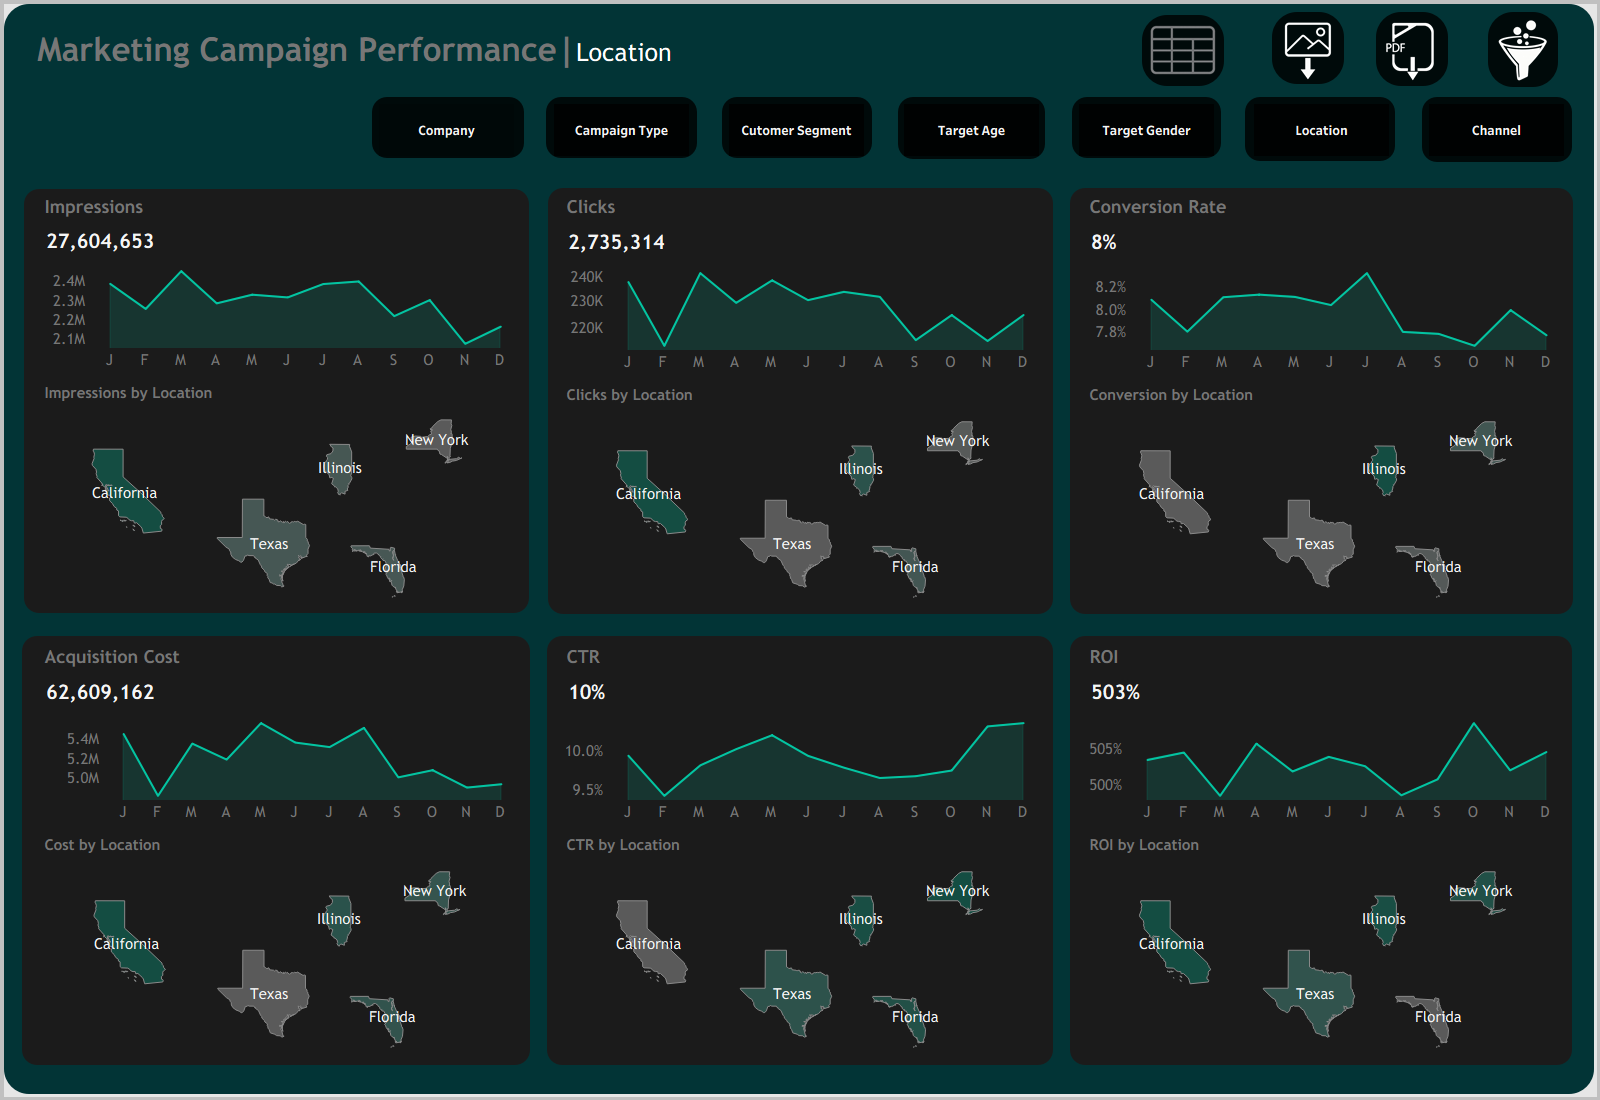

This screenshot's page, from the dashboard's own definition file:
{"tool":"tableau","page":{"name":"Location Page","canvas":[1600,1100],"ordinal":4},"visuals":[{"type":"worksheet","title":"Background Dashboard","mark":"Automatic","box":[0,0,1600,1100]},{"type":"blank","box":[0,0,1600,15]},{"type":"filter","title":"BAN Impressions","param":"[federated.1mnywug06xvtuc16vjv8v0i6xip0].[none:Channel_Used:nk]","box":[772,12,140.6,60]},{"type":"filter","title":"BAN Impressions","param":"[federated.1mnywug06xvtuc16vjv8v0i6xip0].[none:Company:nk]","box":[912.6,12,140.6,60]},{"type":"filter","title":"BAN Impressions","param":"[federated.1mnywug06xvtuc16vjv8v0i6xip0].[none:Calculation_1166370128986117:nk]","box":[1053.2,12,140.6,60]},{"type":"filter","title":"BAN Impressions","param":"[federated.1mnywug06xvtuc16vjv8v0i6xip0].[none:Target_Age:nk]","box":[1193.8,12,140.6,60]},{"type":"filter","title":"BAN Impressions","param":"[federated.1mnywug06xvtuc16vjv8v0i6xip0].[none:Target_Gender:nk]","box":[1334.4,12,140.6,60]},{"type":"text","box":[0,15,778,70]},{"type":"blank","box":[778,15,366,70]},{"type":"dashboard-object","box":[1144,15,77,70]},{"type":"blank","box":[1221,15,50,70]},{"type":"dashboard-object","box":[1271,15,73,70]},{"type":"blank","box":[1344,15,30,70]},{"type":"dashboard-object","box":[1374,15,70,70]},{"type":"blank","box":[1444,15,43,70]},{"type":"dashboard-object","box":[1487,15,70,70]},{"type":"blank","box":[1557,15,43,70]},{"type":"blank","box":[0,85,1600,15]},{"type":"blank","box":[0,90,4,207]},{"type":"dashboard-object","box":[4,90,39,35]},{"type":"text","box":[43,90,38,35]},{"type":"blank","box":[81,90,5,207]},{"type":"dashboard-object","box":[86,90,31,33]},{"type":"text","box":[117,90,161,33]},{"type":"blank","box":[278,90,5,207]},{"type":"dashboard-object","box":[283,90,30,33]},{"type":"text","box":[313,90,155,33]},{"type":"blank","box":[468,90,5,207]},{"type":"dashboard-object","box":[473,90,31,33]},{"type":"text","box":[504,90,119,33]},{"type":"blank","box":[623,90,5,207]},{"type":"dashboard-object","box":[628,90,31,33]},{"type":"text","box":[659.1,90,158,33]},{"type":"blank","box":[817.1,90,5,207]},{"type":"dashboard-object","box":[822.1,90,30,30]},{"type":"text","box":[852.1,90,144,30]},{"type":"blank","box":[996.1,90,5,207]},{"type":"dashboard-object","box":[1001.1,90,30,30]},{"type":"text","box":[1031.1,90,169,30]},{"type":"blank","box":[1200.1,90,5,207]},{"type":"dashboard-object","box":[1205.1,90,30,30]},{"type":"text","box":[1235.1,90,154,30]},{"type":"blank","box":[1389.1,90,5,207]},{"type":"dashboard-object","box":[1394.1,90,30,30]},{"type":"text","box":[1424.1,90,142,30]},{"type":"blank","box":[1566.1,90,30,207]},{"type":"blank","box":[0,100,343,60]},{"type":"blank","box":[343,100,32,60]},{"type":"dashboard-object","box":[375,100,143,60]},{"type":"blank","box":[518,100,32,60]},{"type":"dashboard-object","box":[550,100,143,60]},{"type":"blank","box":[693,100,32,60]},{"type":"dashboard-object","box":[725,100,143,60]},{"type":"blank","box":[868,100,32,60]},{"type":"dashboard-object","box":[900,100,143,60]},{"type":"blank","box":[1043,100,32,60]},{"type":"dashboard-object","box":[1075,100,143,60]},{"type":"blank","box":[1218,100,32,60]},{"type":"dashboard-object","box":[1250,100,143,60]},{"type":"blank","box":[1393,100,32,60]},{"type":"dashboard-object","box":[1425,100,143,60]},{"type":"blank","box":[1568,100,32,60]},{"type":"filter","title":"Detailed_Table","param":"[federated.1mnywug06xvtuc16vjv8v0i6xip0].[none:Channel_Used:nk]","box":[822.1,120,174,58]},{"type":"filter","title":"Detailed_Table","param":"[federated.1mnywug06xvtuc16vjv8v0i6xip0].[usr:Calculation_1851639007813637:qk]","box":[1001.1,120,199,51]},{"type":"filter","title":"Detailed_Table","param":"[federated.1mnywug06xvtuc16vjv8v0i6xip0].[usr:Calculation_1851639006334976:qk]","box":[1205.1,120,184,33]},{"type":"filter","title":"Detailed_Table","param":"[federated.1mnywug06xvtuc16vjv8v0i6xip0].[usr:Calculation_1851639007145986:qk]","box":[1394.1,120,172,51]},{"type":"filter","title":"Detailed_Table","param":"[federated.1mnywug06xvtuc16vjv8v0i6xip0].[none:Company:nk]","box":[86,123,192,58]},{"type":"filter","title":"Detailed_Table","param":"[federated.1mnywug06xvtuc16vjv8v0i6xip0].[none:Customer_Segment:nk]","box":[283,123,185,58]},{"type":"filter","title":"Detailed_Table","param":"[federated.1mnywug06xvtuc16vjv8v0i6xip0].[tdy:Date:qk]","box":[473,123,150,68]},{"type":"filter","title":"Detailed_Table","param":"[federated.1mnywug06xvtuc16vjv8v0i6xip0].[none:Calculation_1166370128986117:nk]","box":[628,123,189,58]},{"type":"filter","title":"Detailed_Table","param":"[federated.1mnywug06xvtuc16vjv8v0i6xip0].[none:Campaign_ID (Dim!Campaign):nk]","box":[4,125,77,35]},{"type":"blank","box":[0,160,32,932]},{"type":"blank","box":[32,160,490,32]},{"type":"blank","box":[522,160,32,932]},{"type":"blank","box":[554.1,160,490.9,32]},{"type":"blank","box":[1045,160,32,932]},{"type":"blank","box":[1077,160,490.9,32]},{"type":"blank","box":[1567.9,160,32,932]},{"type":"filter","title":"Detailed_Table","param":"[federated.1mnywug06xvtuc16vjv8v0i6xip0].[none:Campaign_Type:nk]","box":[86,181,192,58]},{"type":"filter","title":"Detailed_Table","param":"[federated.1mnywug06xvtuc16vjv8v0i6xip0].[none:Target_Age:nk]","box":[283,181,185,58]},{"type":"filter","title":"Detailed_Table","param":"[federated.1mnywug06xvtuc16vjv8v0i6xip0].[none:Location:nk]","box":[628,181,189,58]},{"type":"filter","title":"Detailed_Table","param":"[federated.1mnywug06xvtuc16vjv8v0i6xip0].[none:Weekday:nk]","box":[473,191,150,58]},{"type":"text","box":[32,192,490,29]},{"type":"text","box":[554.1,192,490.9,29]},{"type":"text","box":[1077,192,490.9,29]},{"type":"worksheet","title":"BAN Impressions","mark":"Automatic","box":[32,221,490,41]},{"type":"worksheet","title":"BAN Clicks","mark":"Automatic","box":[554.1,221,490.9,43]},{"type":"worksheet","title":"BAN Conversion","mark":"Automatic","box":[1077,221,490.9,43]},{"type":"filter","title":"Detailed_Table","param":"[federated.1mnywug06xvtuc16vjv8v0i6xip0].[none:Target_Gender:nk]","box":[283,239,185,58]},{"type":"worksheet","title":"Impressions by Year","mark":"Line","rows":["Calculation_1851639006334976","Calculation_1851639006334976"],"cols":["Date"],"box":[32,262,490,112]},{"type":"worksheet","title":"Clicks by Year","mark":"Line","rows":["Calculation_1851639006855169","Calculation_1851639006855169"],"cols":["Date"],"box":[554.1,264,490.9,112]},{"type":"worksheet","title":"Conversion by Year","mark":"Line","rows":["Calculation_1851639007629316","Calculation_1851639007629316"],"cols":["Date"],"box":[1077,264,490.9,112]},{"type":"worksheet","title":"Detailed_Table","mark":"Shape","rows":["Campaign_ID (Dim!Campaign)"],"cols":["Calculation_2238670781300739","Calculation_2238670781300739","Calculation_2238670781300739","Calculation_2238670781300739","Calculation_2238670781300739","Calculation_2238670781300739","Calculation_2238670781300739","Calculation_2238670781300739"],"box":[0,297,1600,803]},{"type":"worksheet","title":"Impressions by Location","mark":"Multipolygon","box":[32,374,490,236]},{"type":"worksheet","title":"Clicks by Location","mark":"Multipolygon","box":[554.1,376,490.9,234]},{"type":"worksheet","title":"Conversion by Location","mark":"Multipolygon","box":[1077,376,490.9,234]},{"type":"blank","box":[32,610,490,32]},{"type":"blank","box":[554.1,610,490.9,32]},{"type":"blank","box":[1077,610,490.9,32]},{"type":"text","box":[32,642,490,29]},{"type":"text","box":[554.1,642,490.9,29]},{"type":"text","box":[1077,642,490.9,29]},{"type":"worksheet","title":"BAN Cost","mark":"Automatic","box":[32,671,490,43]},{"type":"worksheet","title":"BAN CTR","mark":"Automatic","box":[554.1,671,490.9,43]},{"type":"worksheet","title":"BAN ROI","mark":"Automatic","box":[1077,671,490.9,43]},{"type":"worksheet","title":"Cost by Year","mark":"Line","rows":["Calculation_1851639007813637","Calculation_1851639007813637"],"cols":["Date"],"box":[32,714,490,112]},{"type":"worksheet","title":"CTR by Year","mark":"Line","rows":["Calculation_1851639007145986","Calculation_1851639007145986"],"cols":["Date"],"box":[554.1,714,490.9,112]},{"type":"worksheet","title":"ROI by Year","mark":"Line","rows":["Calculation_1851639007985670","Calculation_1851639007985670"],"cols":["Date"],"box":[1077,714,490.9,112]},{"type":"worksheet","title":"Cost by Location","mark":"Multipolygon","box":[32,826,490,234]},{"type":"worksheet","title":"CTR by Location","mark":"Multipolygon","box":[554.1,826,490.9,234]},{"type":"worksheet","title":"ROI by Location","mark":"Multipolygon","box":[1077,826,490.9,234]},{"type":"blank","box":[32,1060,490,32]},{"type":"blank","box":[554.1,1060,490.9,32]},{"type":"blank","box":[1077,1060,490.9,32]}]}

Visuals, with their boxes in screenshot pixels (x1, y1, x2, y2), scaled from the page's 1600x1100 canvas onto the 1600x1100 screenshot:
"Background Dashboard" worksheet: left=0, top=0, right=1599, bottom=1099
blank: left=0, top=0, right=1599, bottom=15
"BAN Impressions" filter: left=772, top=12, right=913, bottom=72
"BAN Impressions" filter: left=913, top=12, right=1053, bottom=72
"BAN Impressions" filter: left=1053, top=12, right=1194, bottom=72
"BAN Impressions" filter: left=1194, top=12, right=1334, bottom=72
"BAN Impressions" filter: left=1334, top=12, right=1475, bottom=72
text: left=0, top=15, right=778, bottom=85
blank: left=778, top=15, right=1144, bottom=85
dashboard-object: left=1144, top=15, right=1221, bottom=85
blank: left=1221, top=15, right=1271, bottom=85
dashboard-object: left=1271, top=15, right=1344, bottom=85
blank: left=1344, top=15, right=1374, bottom=85
dashboard-object: left=1374, top=15, right=1444, bottom=85
blank: left=1444, top=15, right=1487, bottom=85
dashboard-object: left=1487, top=15, right=1557, bottom=85
blank: left=1557, top=15, right=1599, bottom=85
blank: left=0, top=85, right=1599, bottom=100
blank: left=0, top=90, right=4, bottom=297
dashboard-object: left=4, top=90, right=43, bottom=125
text: left=43, top=90, right=81, bottom=125
blank: left=81, top=90, right=86, bottom=297
dashboard-object: left=86, top=90, right=117, bottom=123
text: left=117, top=90, right=278, bottom=123
blank: left=278, top=90, right=283, bottom=297
dashboard-object: left=283, top=90, right=313, bottom=123
text: left=313, top=90, right=468, bottom=123
blank: left=468, top=90, right=473, bottom=297
dashboard-object: left=473, top=90, right=504, bottom=123
text: left=504, top=90, right=623, bottom=123
blank: left=623, top=90, right=628, bottom=297
dashboard-object: left=628, top=90, right=659, bottom=123
text: left=659, top=90, right=817, bottom=123
blank: left=817, top=90, right=822, bottom=297
dashboard-object: left=822, top=90, right=852, bottom=120
text: left=852, top=90, right=996, bottom=120
blank: left=996, top=90, right=1001, bottom=297
dashboard-object: left=1001, top=90, right=1031, bottom=120
text: left=1031, top=90, right=1200, bottom=120
blank: left=1200, top=90, right=1205, bottom=297
dashboard-object: left=1205, top=90, right=1235, bottom=120
text: left=1235, top=90, right=1389, bottom=120
blank: left=1389, top=90, right=1394, bottom=297
dashboard-object: left=1394, top=90, right=1424, bottom=120
text: left=1424, top=90, right=1566, bottom=120
blank: left=1566, top=90, right=1596, bottom=297
blank: left=0, top=100, right=343, bottom=160
blank: left=343, top=100, right=375, bottom=160
dashboard-object: left=375, top=100, right=518, bottom=160
blank: left=518, top=100, right=550, bottom=160
dashboard-object: left=550, top=100, right=693, bottom=160
blank: left=693, top=100, right=725, bottom=160
dashboard-object: left=725, top=100, right=868, bottom=160
blank: left=868, top=100, right=900, bottom=160
dashboard-object: left=900, top=100, right=1043, bottom=160
blank: left=1043, top=100, right=1075, bottom=160
dashboard-object: left=1075, top=100, right=1218, bottom=160
blank: left=1218, top=100, right=1250, bottom=160
dashboard-object: left=1250, top=100, right=1393, bottom=160
blank: left=1393, top=100, right=1425, bottom=160
dashboard-object: left=1425, top=100, right=1568, bottom=160
blank: left=1568, top=100, right=1599, bottom=160
"Detailed_Table" filter: left=822, top=120, right=996, bottom=178
"Detailed_Table" filter: left=1001, top=120, right=1200, bottom=171
"Detailed_Table" filter: left=1205, top=120, right=1389, bottom=153
"Detailed_Table" filter: left=1394, top=120, right=1566, bottom=171
"Detailed_Table" filter: left=86, top=123, right=278, bottom=181
"Detailed_Table" filter: left=283, top=123, right=468, bottom=181
"Detailed_Table" filter: left=473, top=123, right=623, bottom=191
"Detailed_Table" filter: left=628, top=123, right=817, bottom=181
"Detailed_Table" filter: left=4, top=125, right=81, bottom=160
blank: left=0, top=160, right=32, bottom=1092
blank: left=32, top=160, right=522, bottom=192
blank: left=522, top=160, right=554, bottom=1092
blank: left=554, top=160, right=1045, bottom=192
blank: left=1045, top=160, right=1077, bottom=1092
blank: left=1077, top=160, right=1568, bottom=192
blank: left=1568, top=160, right=1599, bottom=1092
"Detailed_Table" filter: left=86, top=181, right=278, bottom=239
"Detailed_Table" filter: left=283, top=181, right=468, bottom=239
"Detailed_Table" filter: left=628, top=181, right=817, bottom=239
"Detailed_Table" filter: left=473, top=191, right=623, bottom=249
text: left=32, top=192, right=522, bottom=221
text: left=554, top=192, right=1045, bottom=221
text: left=1077, top=192, right=1568, bottom=221
"BAN Impressions" worksheet: left=32, top=221, right=522, bottom=262
"BAN Clicks" worksheet: left=554, top=221, right=1045, bottom=264
"BAN Conversion" worksheet: left=1077, top=221, right=1568, bottom=264
"Detailed_Table" filter: left=283, top=239, right=468, bottom=297
"Impressions by Year" worksheet (Line marks): left=32, top=262, right=522, bottom=374
"Clicks by Year" worksheet (Line marks): left=554, top=264, right=1045, bottom=376
"Conversion by Year" worksheet (Line marks): left=1077, top=264, right=1568, bottom=376
"Detailed_Table" worksheet (Shape marks): left=0, top=297, right=1599, bottom=1099
"Impressions by Location" worksheet (Multipolygon marks): left=32, top=374, right=522, bottom=610
"Clicks by Location" worksheet (Multipolygon marks): left=554, top=376, right=1045, bottom=610
"Conversion by Location" worksheet (Multipolygon marks): left=1077, top=376, right=1568, bottom=610
blank: left=32, top=610, right=522, bottom=642
blank: left=554, top=610, right=1045, bottom=642
blank: left=1077, top=610, right=1568, bottom=642
text: left=32, top=642, right=522, bottom=671
text: left=554, top=642, right=1045, bottom=671
text: left=1077, top=642, right=1568, bottom=671
"BAN Cost" worksheet: left=32, top=671, right=522, bottom=714
"BAN CTR" worksheet: left=554, top=671, right=1045, bottom=714
"BAN ROI" worksheet: left=1077, top=671, right=1568, bottom=714
"Cost by Year" worksheet (Line marks): left=32, top=714, right=522, bottom=826
"CTR by Year" worksheet (Line marks): left=554, top=714, right=1045, bottom=826
"ROI by Year" worksheet (Line marks): left=1077, top=714, right=1568, bottom=826
"Cost by Location" worksheet (Multipolygon marks): left=32, top=826, right=522, bottom=1060
"CTR by Location" worksheet (Multipolygon marks): left=554, top=826, right=1045, bottom=1060
"ROI by Location" worksheet (Multipolygon marks): left=1077, top=826, right=1568, bottom=1060
blank: left=32, top=1060, right=522, bottom=1092
blank: left=554, top=1060, right=1045, bottom=1092
blank: left=1077, top=1060, right=1568, bottom=1092
